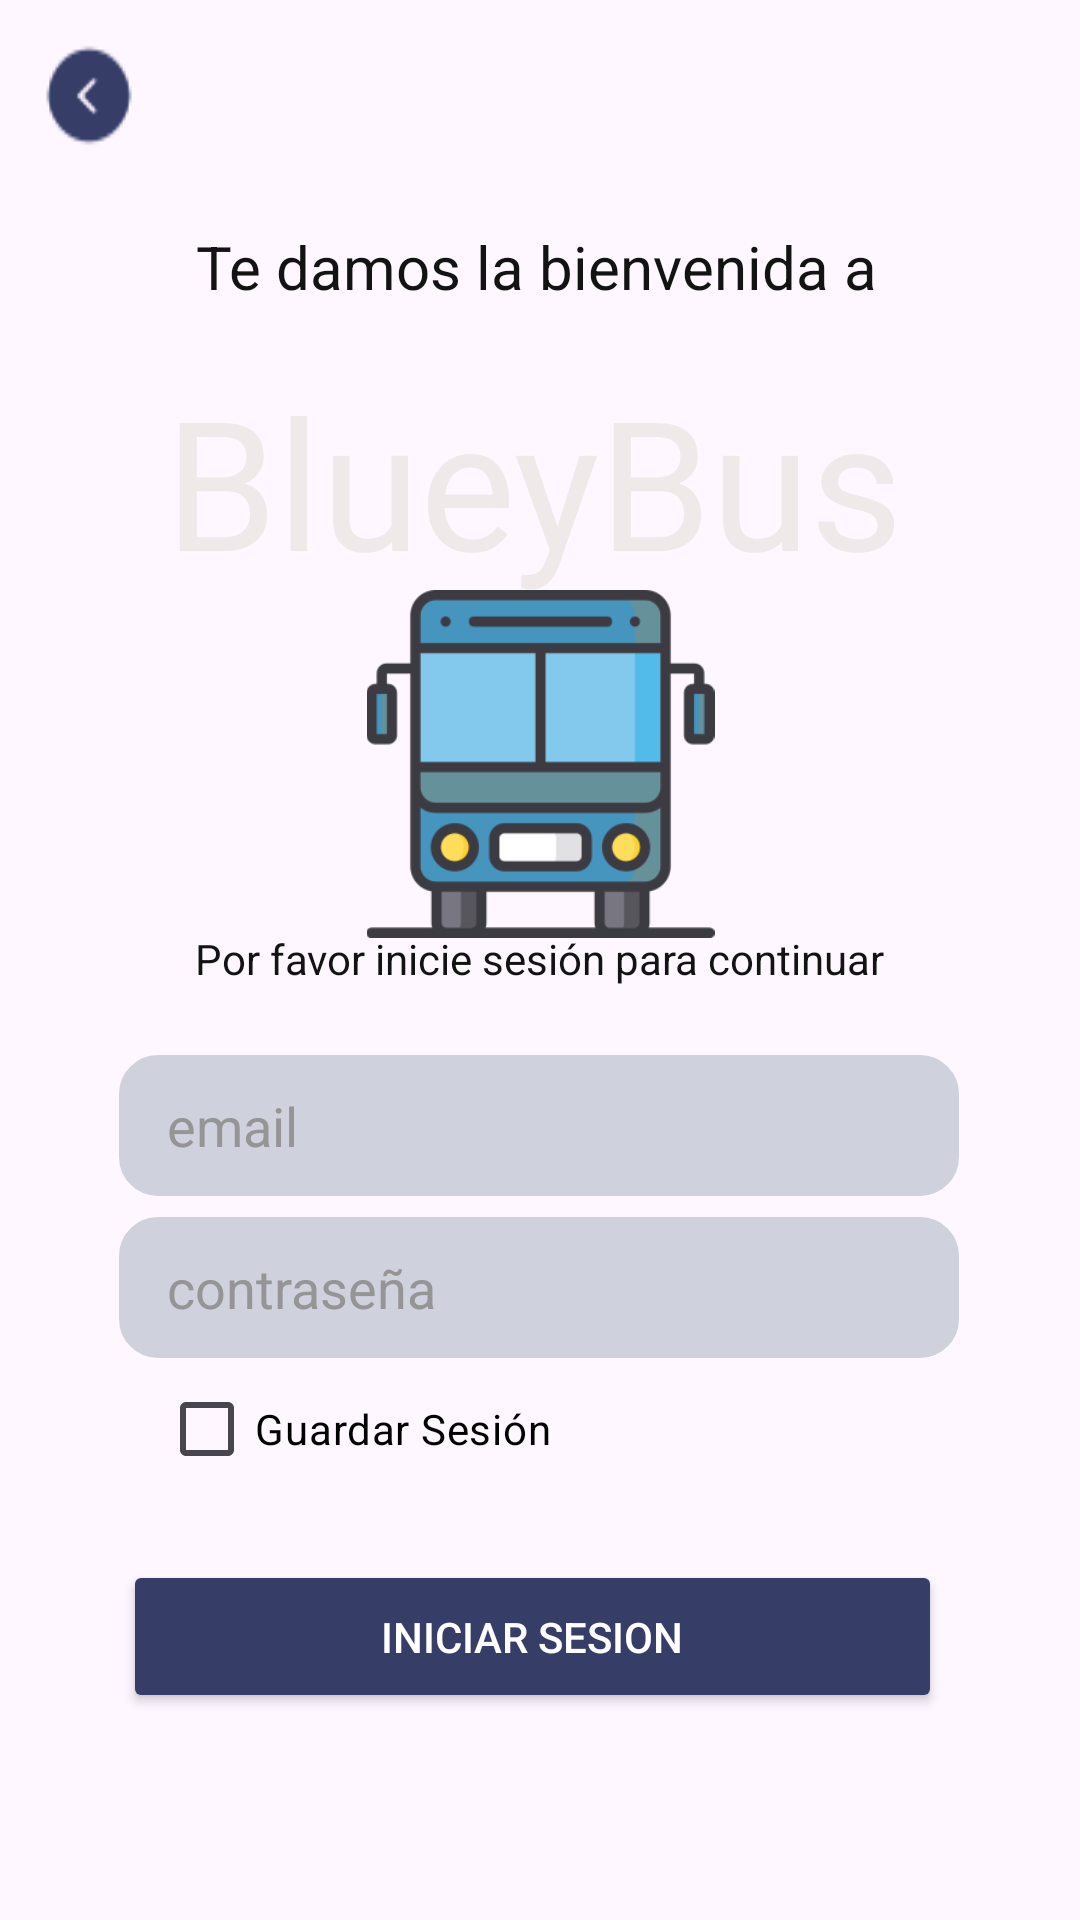

Icons on this 1080x1920 Android screen, each with the point to tap as (x=x, y=y):
left: (x=89, y=95)
transporte publico: (x=541, y=764)
